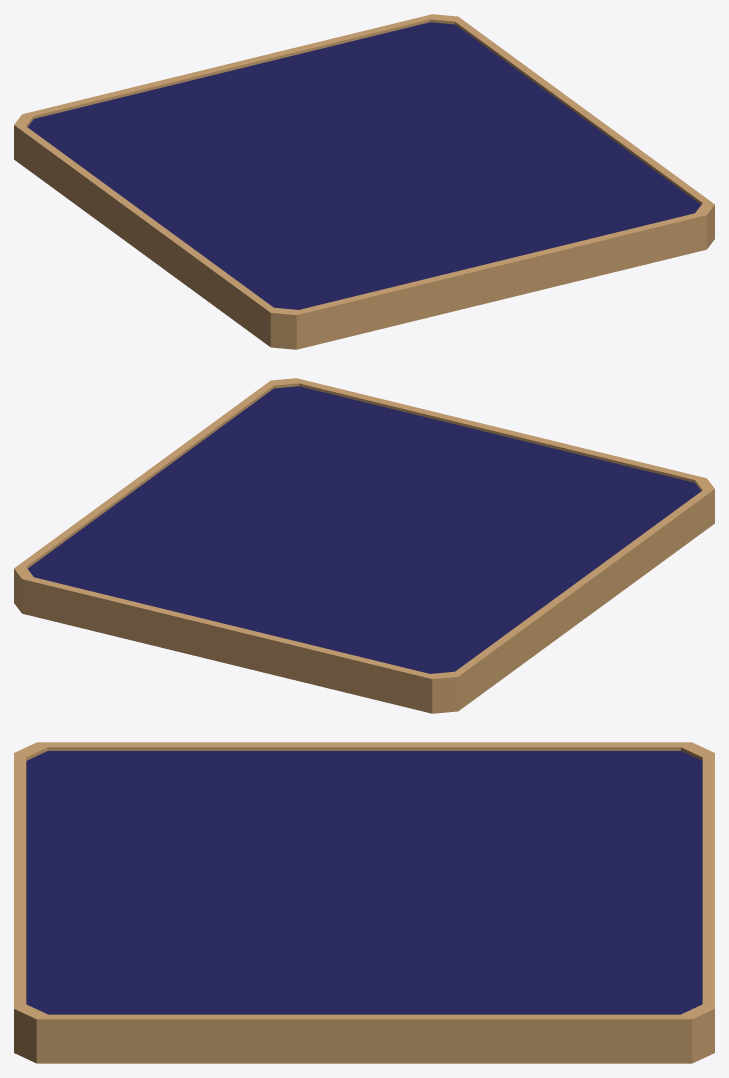
File: room_middle.fbx
The picture shows the model from 3 angles, top to bottom: view 1: azimuth 30°, elevation 25°; view 2: azimuth 150°, elevation 25°; view 3: azimuth 270°, elevation 25°; orthographic projection. The views are drawn at different scales.
Parts seen in each view (by area): view 1: Room_single.009; view 2: Room_single.009; view 3: Room_single.009.
Part boxes in pixels (x1,y1,x2,y2): Room_single.009: (14, 14, 714, 349); Room_single.009: (14, 378, 714, 713); Room_single.009: (14, 742, 714, 1063).
Size of the model in its own units: 71492 by 5323 by 76494.
